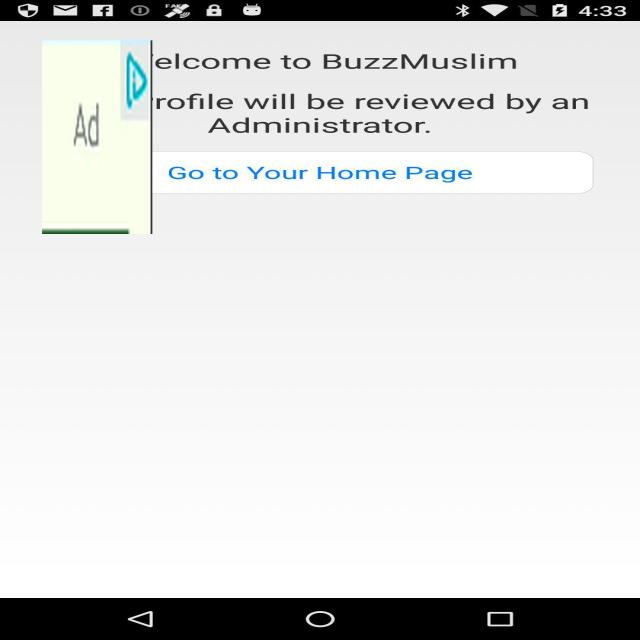sneaking: (42, 40, 152, 234)
